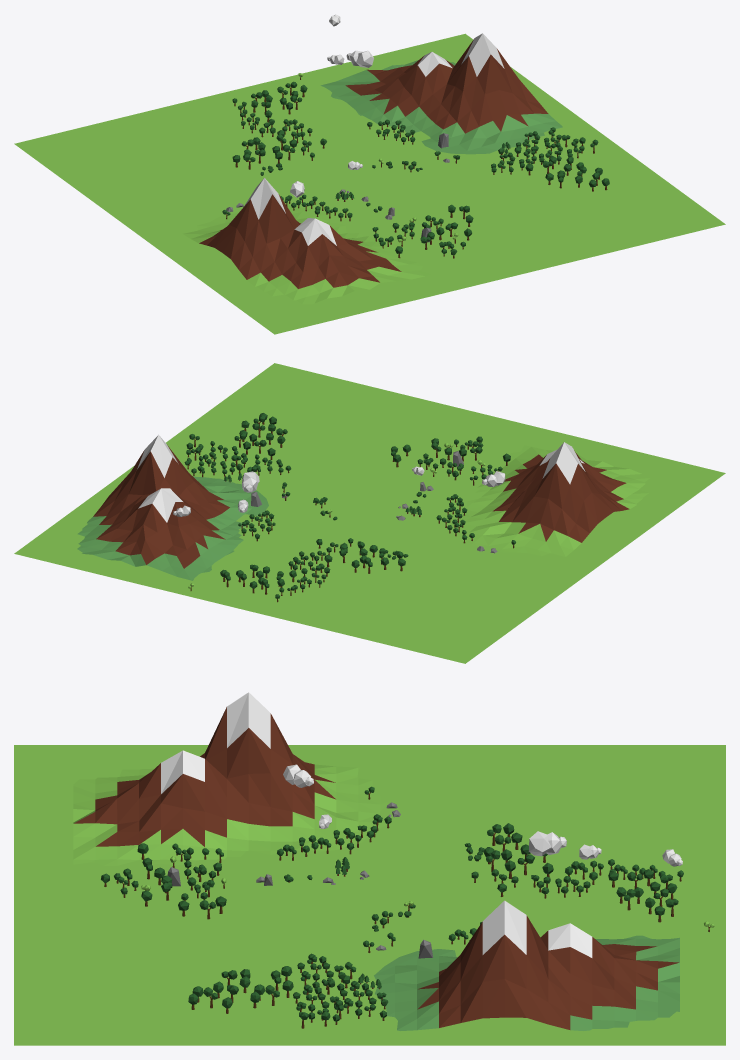
File: mountain-terrain.dae
3 renders of one model, top to bottom at view 1: azimuth 30°, elevation 25°; view 2: azimuth 150°, elevation 25°; view 3: azimuth 270°, elevation 25°, orthographic. The views are drawn at different scales.
Visible parts, largest first — view 1: Icosphere_011; view 2: Icosphere_011; view 3: Icosphere_011.
Part boxes in pixels (box(x1,y1,x2,y2)): Icosphere_011: box(14, 14, 725, 334); Icosphere_011: box(14, 363, 725, 663); Icosphere_011: box(14, 692, 725, 1045).
Bounding box in the file's own units: 589 × 589 × 96.19.
